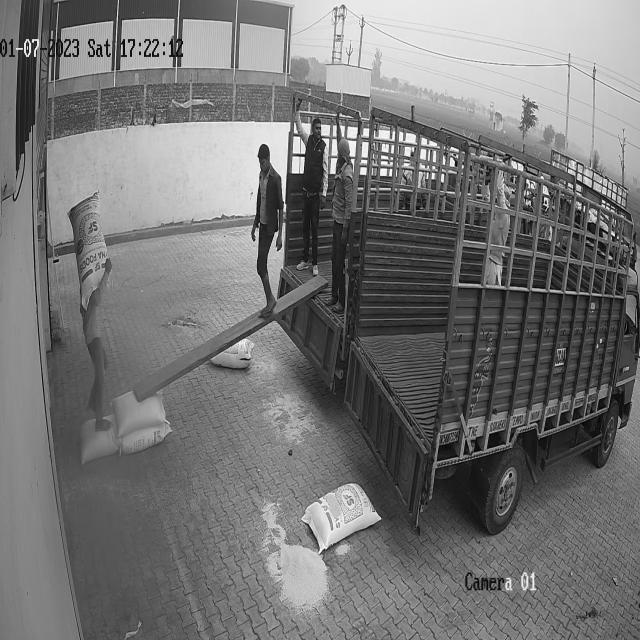sack: (300, 484, 380, 552), (69, 192, 109, 311), (110, 391, 166, 436), (79, 413, 120, 462), (119, 421, 171, 454), (210, 336, 254, 369)
